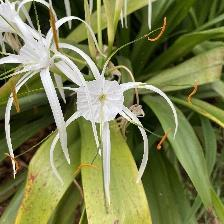spider lily: (39, 47, 183, 213)
